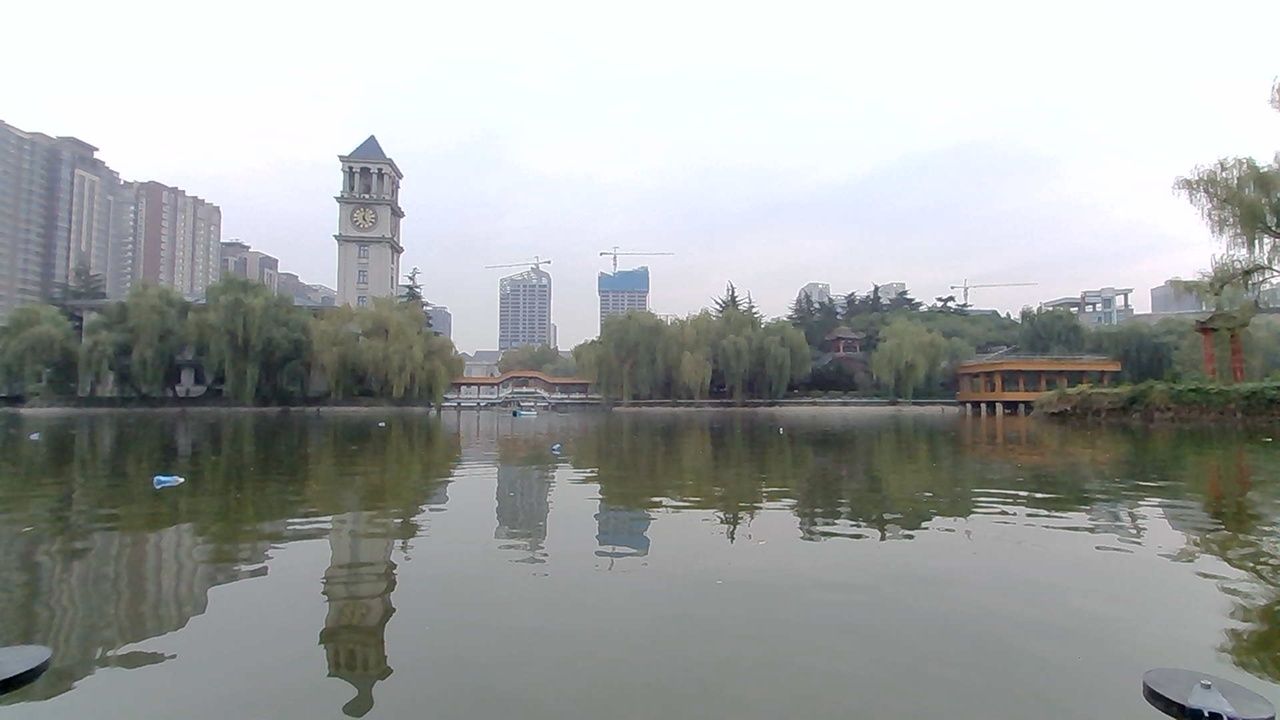bottle: (537, 429, 571, 456), (20, 426, 58, 450), (769, 417, 799, 443), (150, 471, 187, 492), (380, 406, 409, 428)
